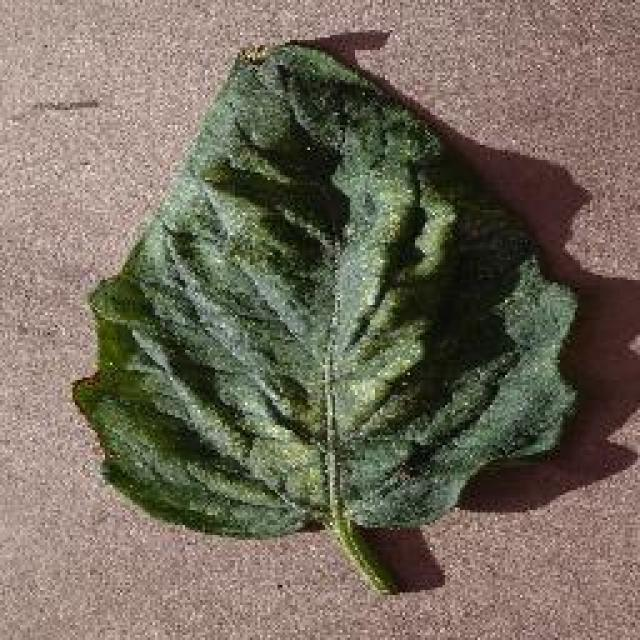Tomato___Spider_mites Two-spotted_spider_mite: (72, 45, 575, 590)
